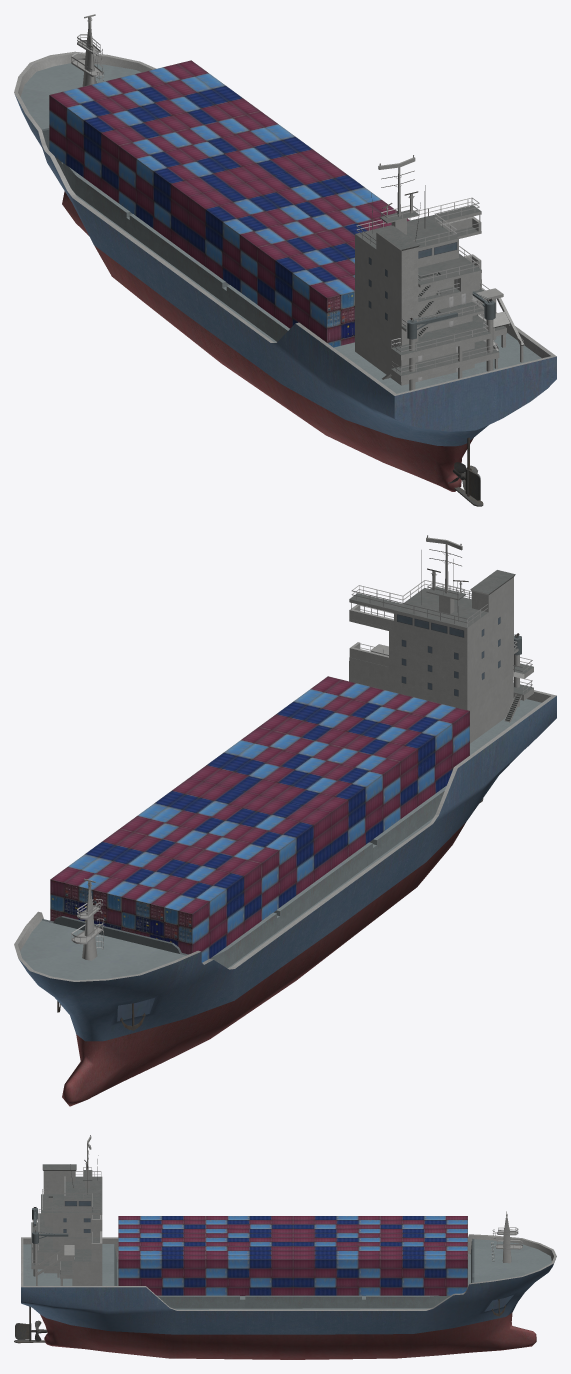
Rendered from Cargo_Ship_Full.glb.
The picture shows the model from 3 angles, top to bottom: view 1: azimuth 30°, elevation 25°; view 2: azimuth 150°, elevation 25°; view 3: azimuth 270°, elevation 25°; orthographic projection. The views are drawn at different scales.
Visible parts, largest first — view 1: Cargo_Ship_Full__LOD3; view 2: Cargo_Ship_Full__LOD3; view 3: Cargo_Ship_Full__LOD3.
Part boxes in pixels (box(x1,y1,x2,y2)): Cargo_Ship_Full__LOD3: box(14, 14, 556, 506); Cargo_Ship_Full__LOD3: box(14, 535, 556, 1106); Cargo_Ship_Full__LOD3: box(14, 1135, 556, 1359).
Bounding box in the file's own units: 65.63 × 126 × 300.
Materials: 1 (1 with a texture image).
